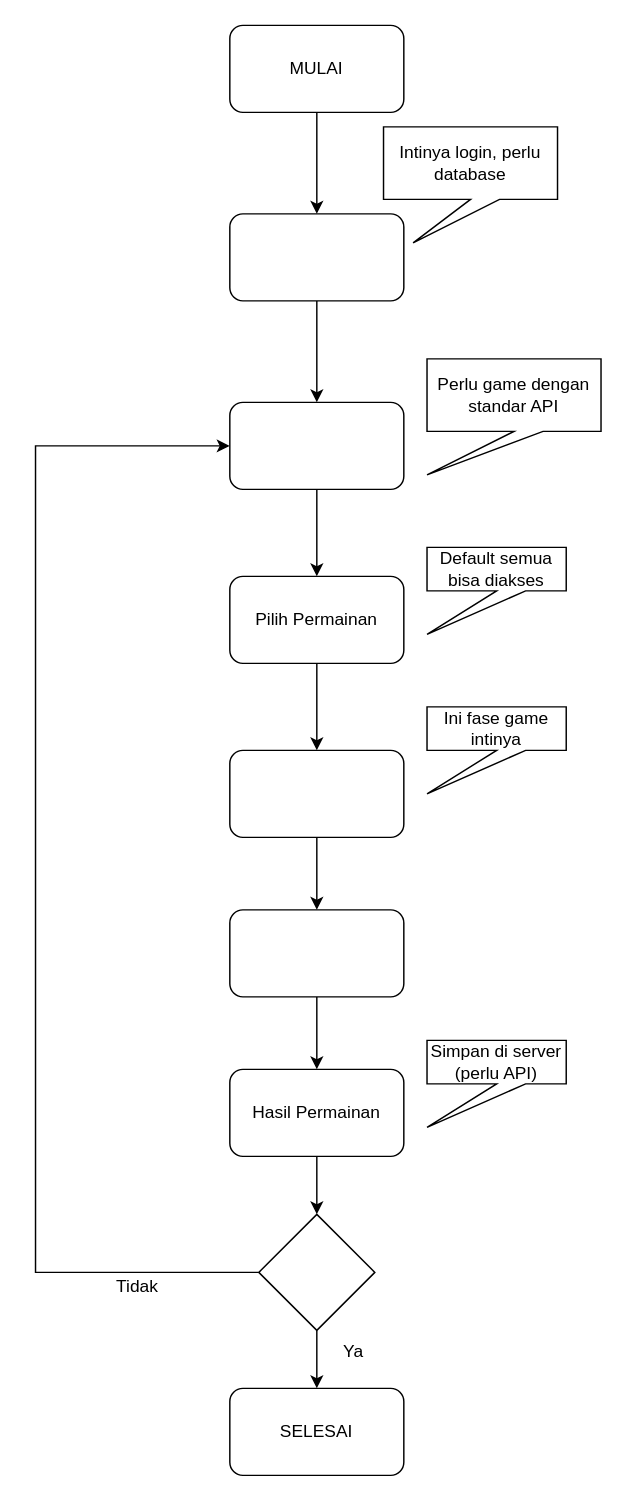
The diagram is 626 pixels wide and 1501 high, and some of its shapes have lost their labels. The centre of each missing label's shape, as x and y in pixels:
"Bermain" goes at point 316,793.
"Daftar Permainan" goes at point 316,445.
"Masukkan Nama" goes at point 316,256.
"Selesai Bermain" goes at point 316,952.
"Selesai Main?" goes at point 316,1271.
